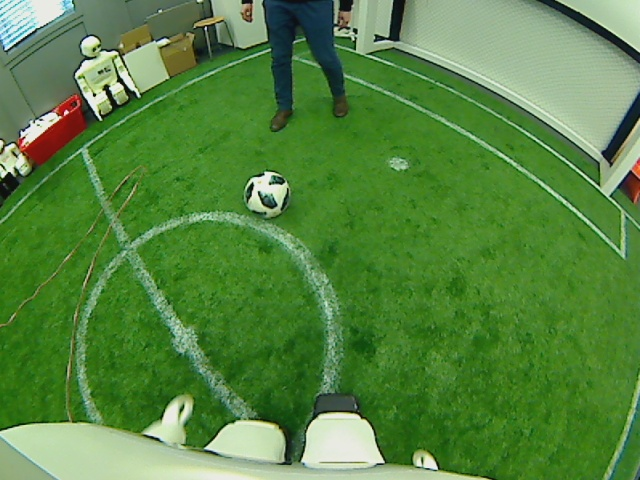ball: (243, 168, 290, 219)
